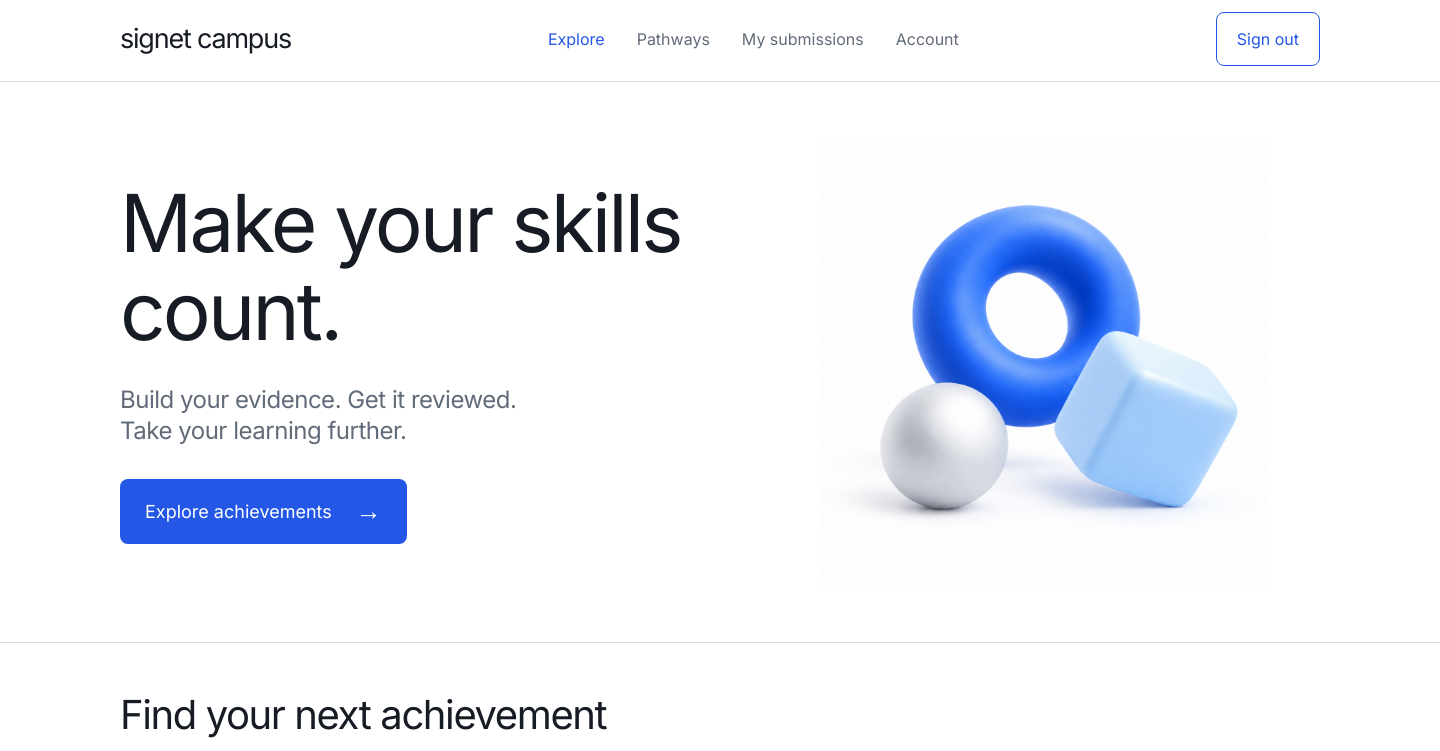
Test: issues a completion award and explains an unverified email failure
Click the button "Pathways" at {"x": 673, "y": 39}, box [637,13,710,65]
(page scrolled)
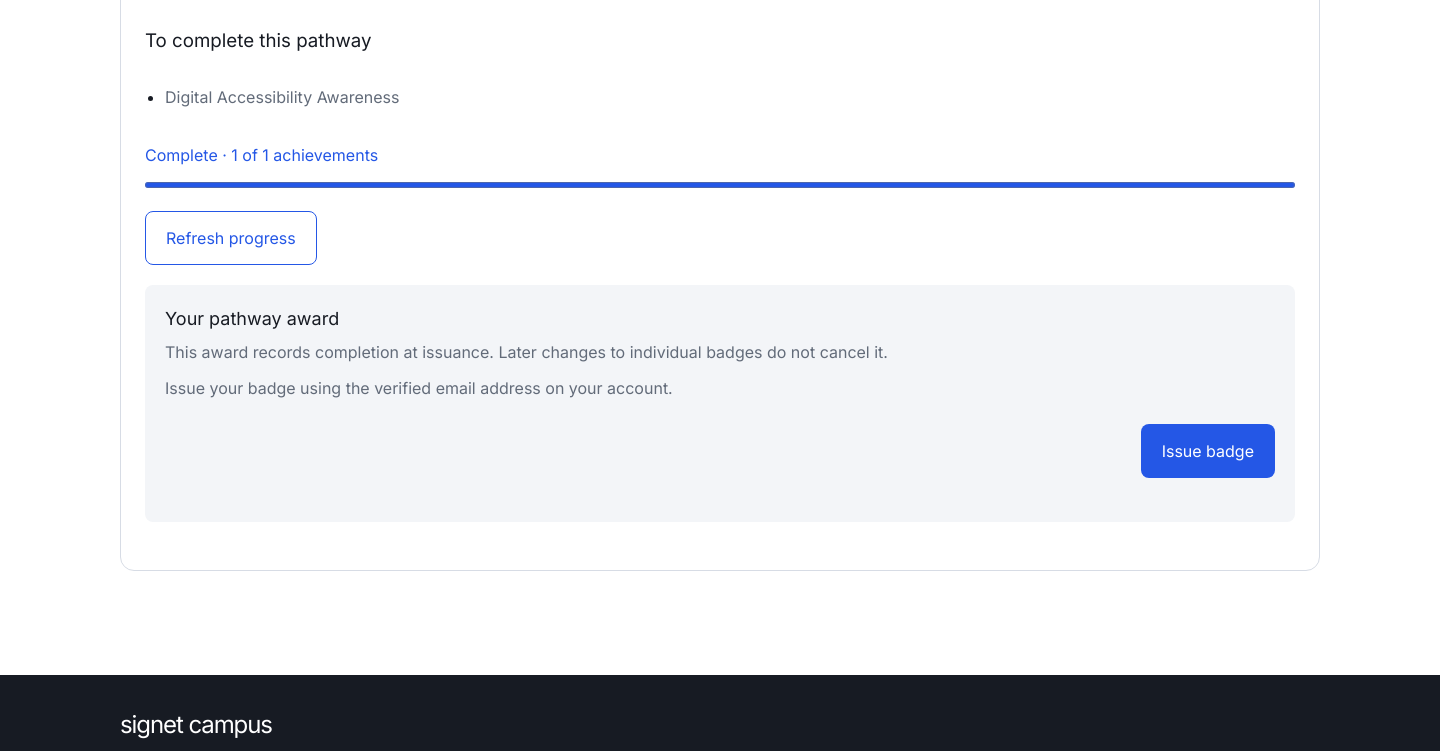
Click the button "Issue badge" at {"x": 1208, "y": 451}, box [1141,424,1275,478]
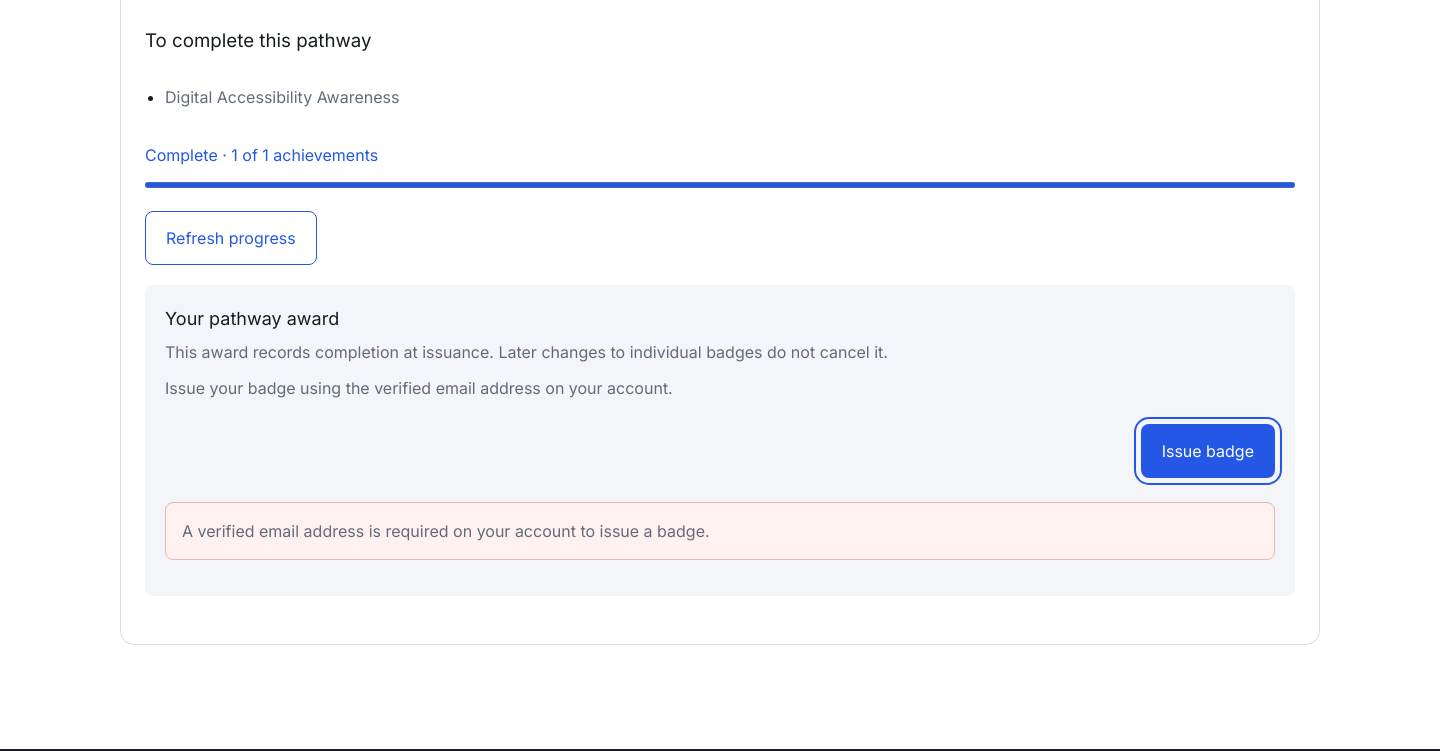
Expected: the message shows "A verified email address is required", [182,521,710,541]
Click the button "Issue badge" at {"x": 1208, "y": 451}, box [1141,424,1275,478]
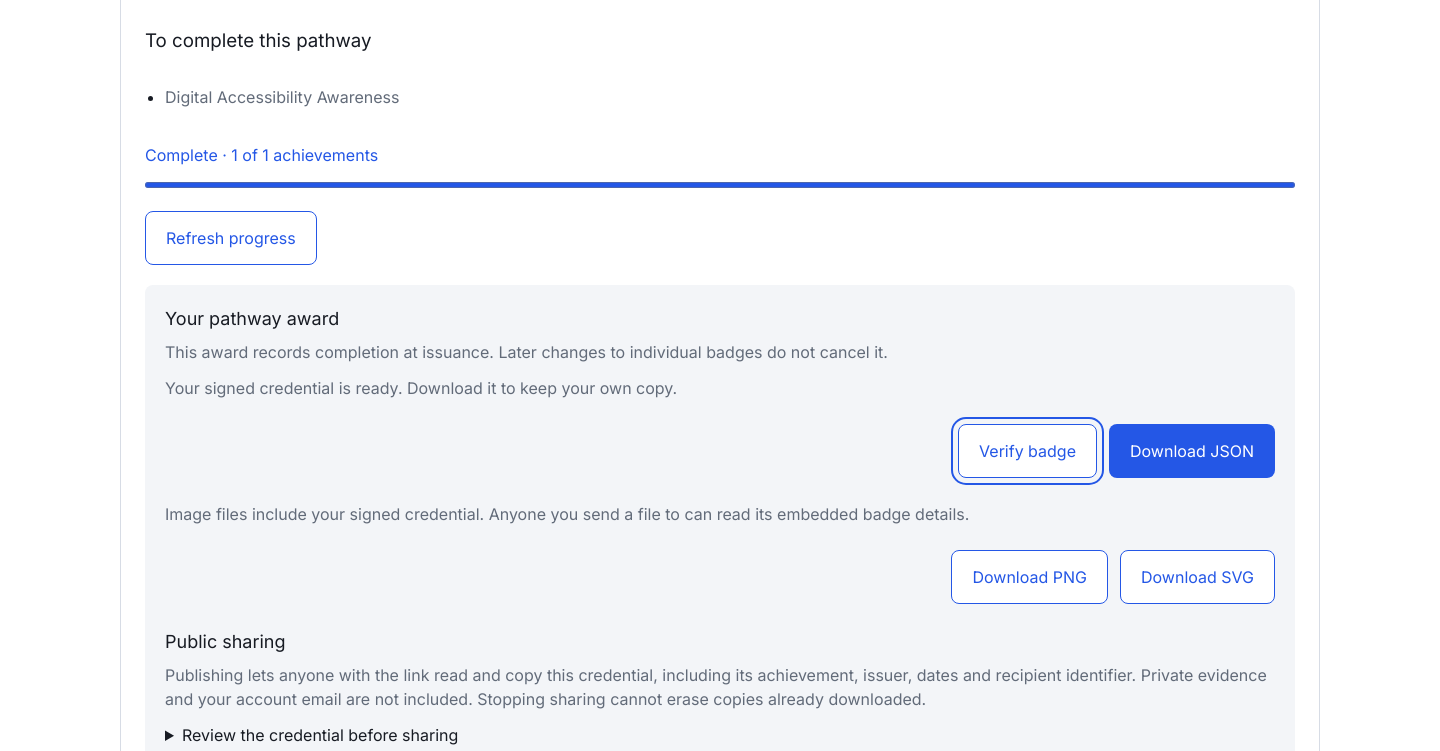
Expected: the link "Download JSON" is shown, [1109,424,1275,478]
